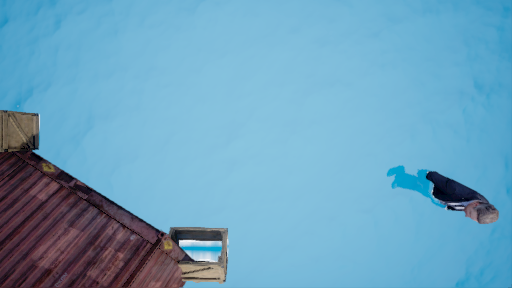person: (374, 164, 503, 238)
